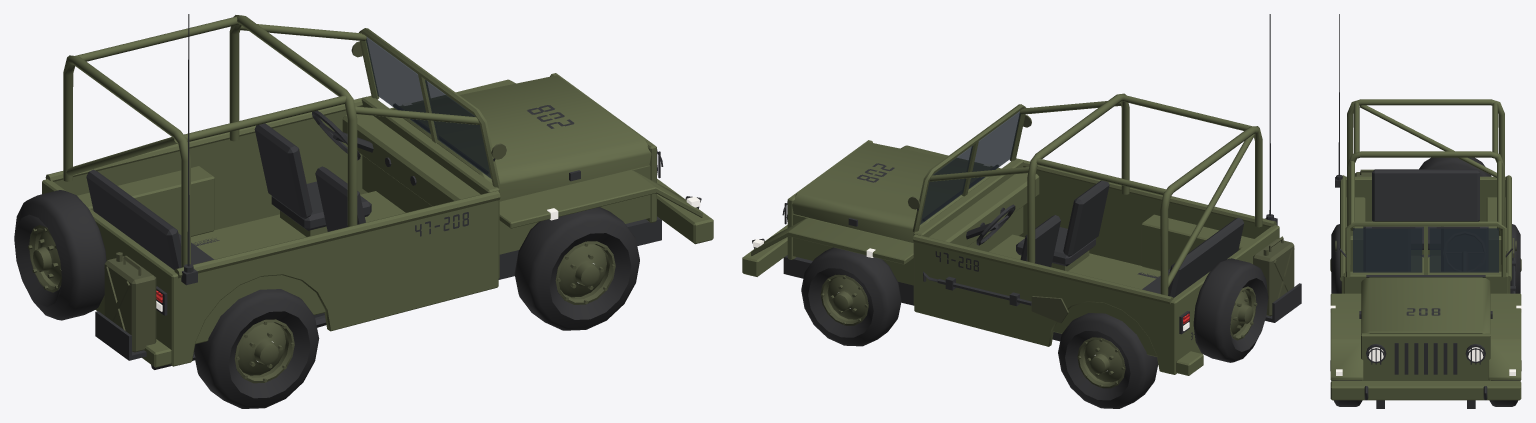
Rendered from army_jeep.glb.
3 renders of one model, left to right at view 1: azimuth 30°, elevation 25°; view 2: azimuth 150°, elevation 25°; view 3: azimuth 270°, elevation 25°, orthographic. The views are drawn at different scales.
Visible parts, largest first — view 1: Body, Wheel_FR, Wheel_RR; view 2: Body, Wheel_FL, Wheel_RL; view 3: Body, Wheel_RR, Wheel_RL, Wheel_FL, Wheel_FR.
Part boxes in pixels (x1,y1,x2,y2): Body: (14, 14, 713, 369); Wheel_FR: (514, 207, 639, 330); Wheel_RR: (194, 289, 319, 408); Body: (742, 14, 1301, 375); Wheel_FL: (801, 247, 901, 346); Wheel_RL: (1058, 313, 1158, 408); Body: (1330, 14, 1521, 408); Wheel_RR: (1330, 224, 1341, 293); Wheel_RL: (1510, 224, 1521, 293); Wheel_FL: (1489, 360, 1521, 406); Wheel_FR: (1330, 360, 1362, 406).
Bounding box in the file's own units: 4.09 × 2.7 × 1.77.
7 materials, 3 textured.
